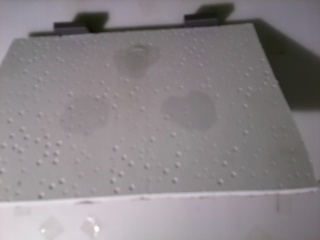Water_detected: (74, 98, 117, 139), (176, 99, 218, 138), (125, 42, 162, 75)
